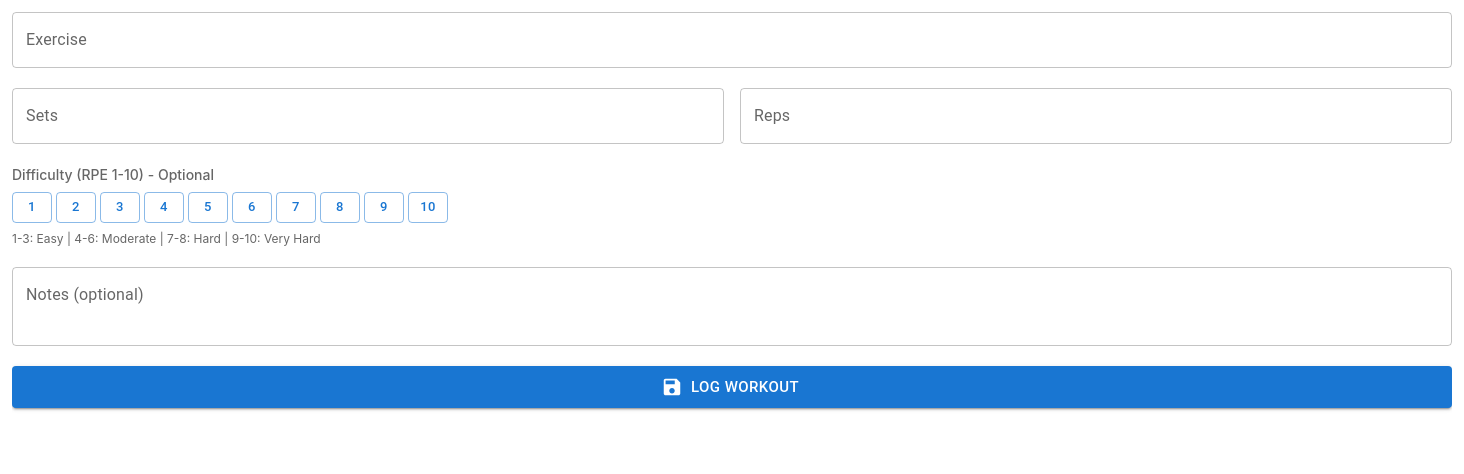
Test: WorkoutForm › Validation › clears error when user starts typing in field
Submit to trigger errors
Click the button "Log Workout". click: click(732, 387)
box: [12, 366, 1452, 408]
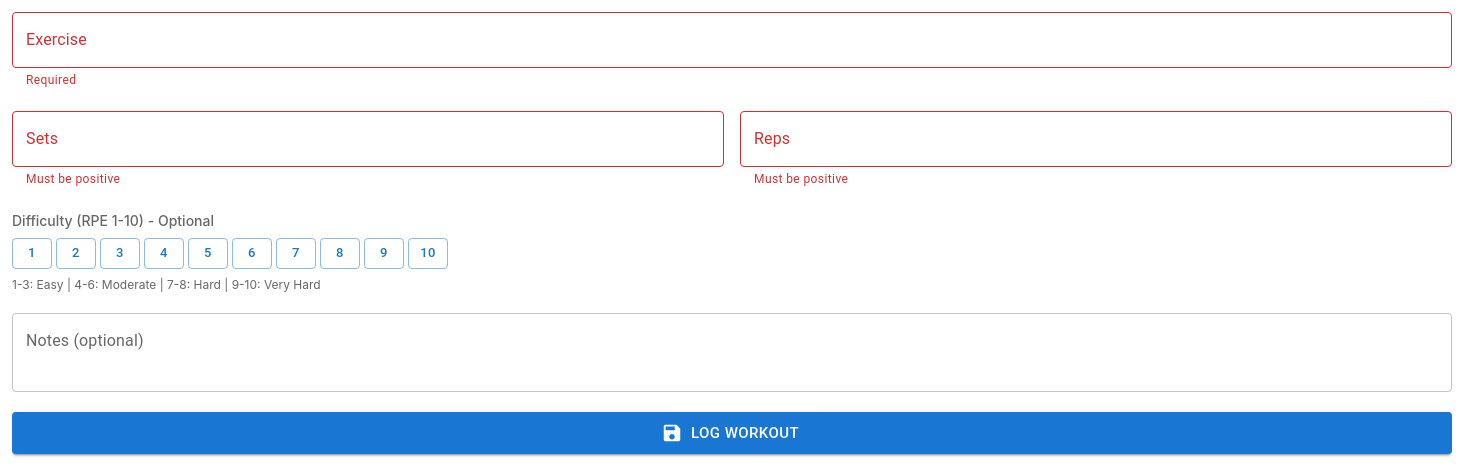
Expected: the text "Required" is shown, [26, 73, 76, 87]
Start typing in exercise name field
Type "B" into the dropdown labelled "Exercise". click: (717, 40)
box: [21, 21, 1413, 59]
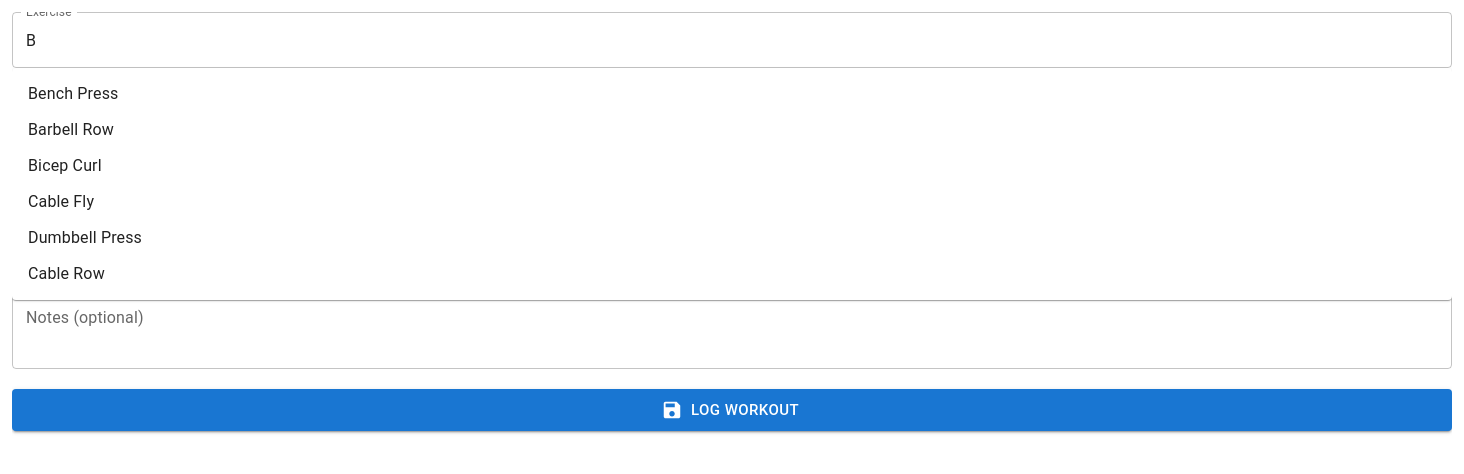
Expected: the text "Required" is gone
